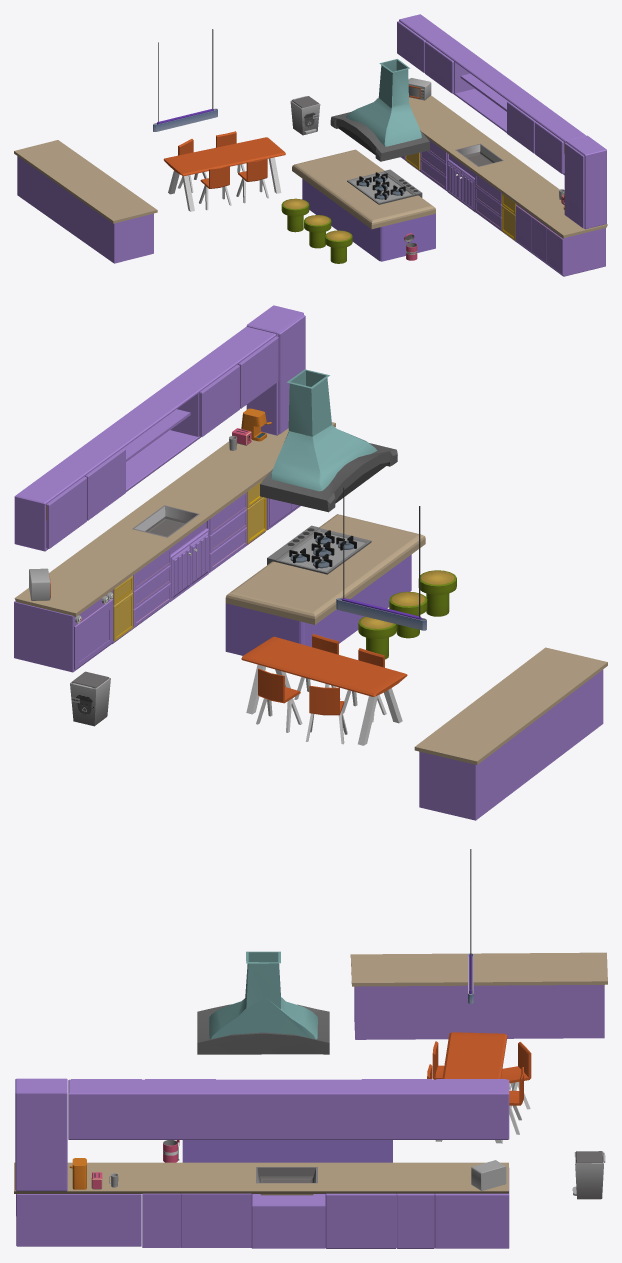
File: Kitchen assets.fbx
The picture shows the model from 3 angles, top to bottom: view 1: azimuth 30°, elevation 25°; view 2: azimuth 150°, elevation 25°; view 3: azimuth 270°, elevation 25°; orthographic projection. The views are drawn at different scales.
Parts seen in each view (by area): view 1: Kitchen assets; view 2: Kitchen assets; view 3: Kitchen assets.
Boxes of the visible parts, left/top/right/bottom form: Kitchen assets: left=14, top=14, right=607, bottom=276; Kitchen assets: left=14, top=305, right=607, bottom=820; Kitchen assets: left=14, top=849, right=607, bottom=1248.
Size of the model in its own units: 843 by 364 by 886.
